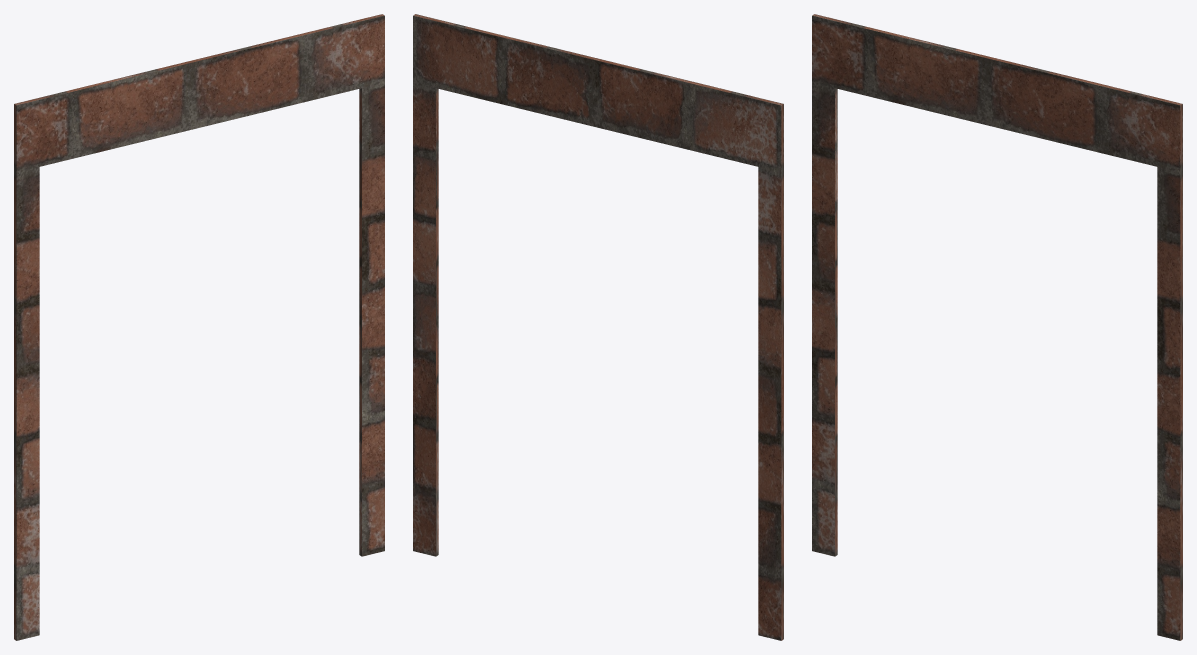
The model's file is 2doorWallForRoomMaterial.fbx.
The picture shows the model from 3 angles, left to right: view 1: azimuth 30°, elevation 25°; view 2: azimuth 150°, elevation 25°; view 3: azimuth 330°, elevation 25°; orthographic projection.
Visible parts, largest first — view 1: Cube; view 2: Cube; view 3: Cube.
Part boxes in pixels (x1,y1,x2,y2): Cube: (14,14,384,640); Cube: (413,14,783,640); Cube: (812,14,1182,640).
Bounding box in the file's own units: 180 × 250 × 2.
